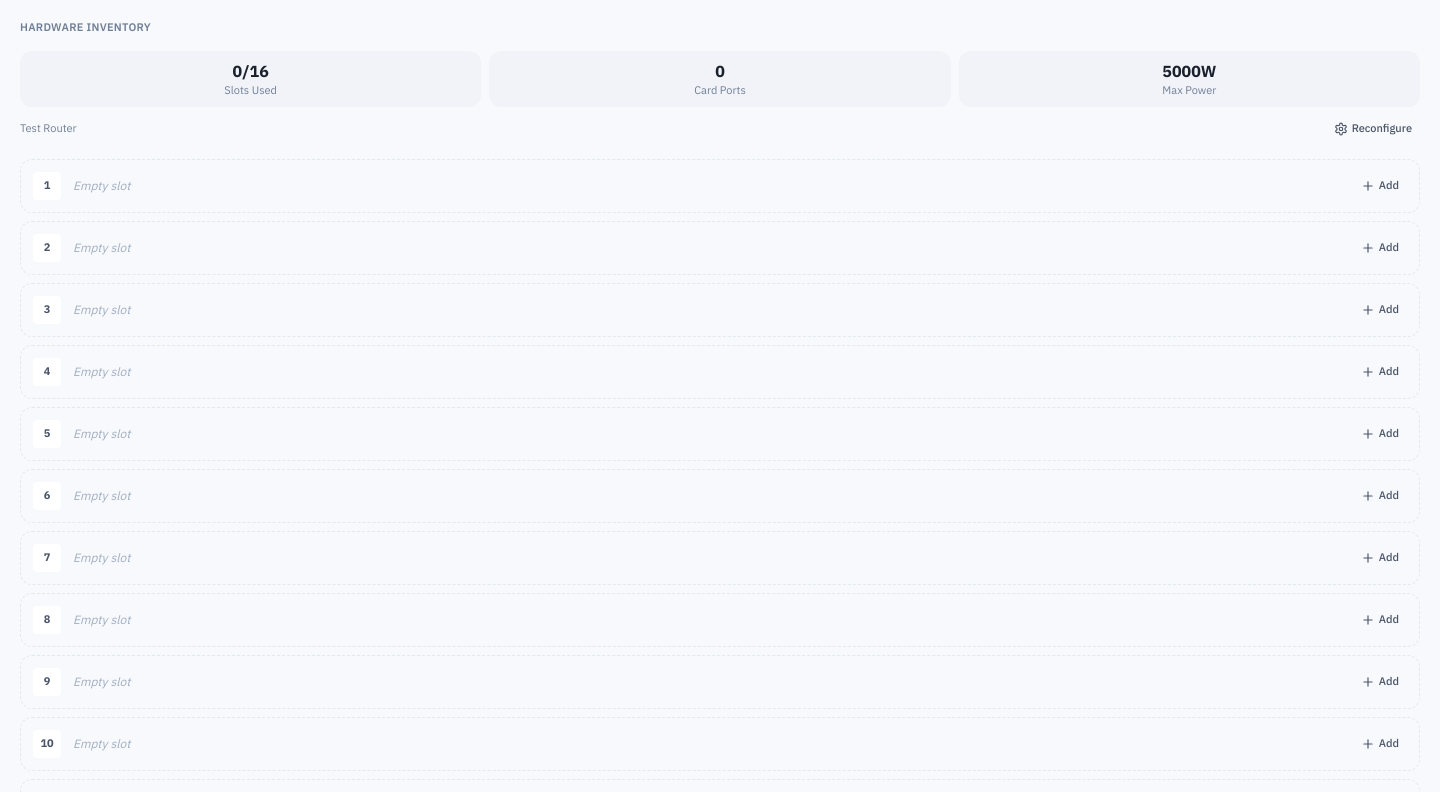
Test case: InventoryTab › shows reconfigure form pre-filled with current chassis values
Click reconfigure
Click the button with test id "chassis-reconfigure-btn": coordinates (1373, 129) [1326,115,1420,143]
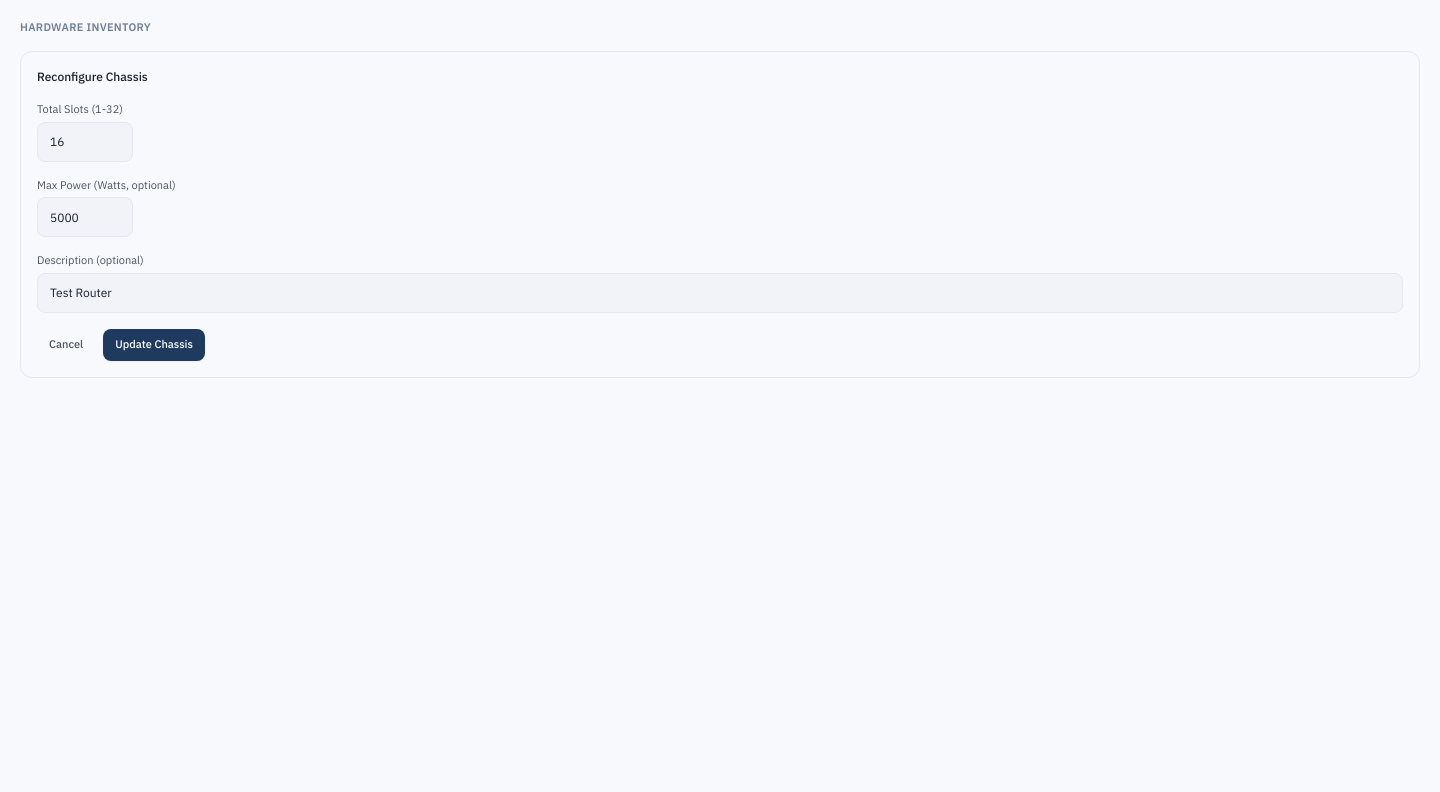
Expected: the element with test id "chassis-setup-form" is shown, [20,51,1420,378]
Expected: the text "Reconfigure Chassis" is shown, [37,69,148,84]
Expected: the number field showing "16" below "Total Slots (1-32)" is shown, [37,122,133,162]
